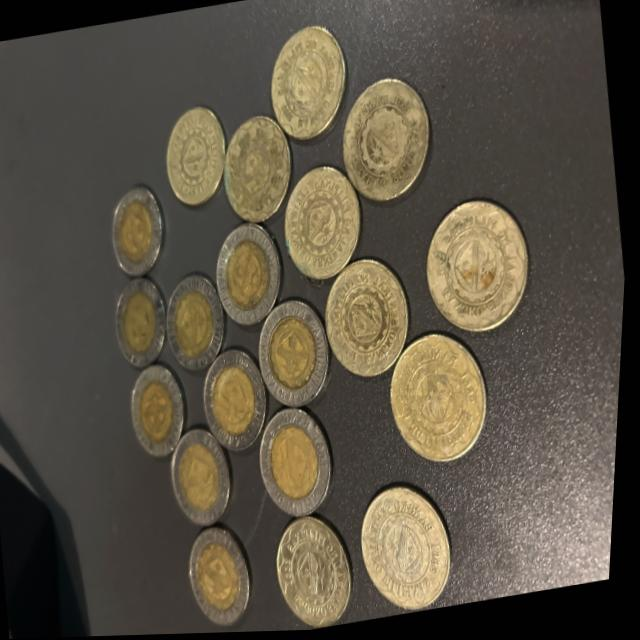10_Old_Back: (251, 295, 341, 416)
5_Old_Back: (316, 257, 421, 387), (278, 163, 369, 283)
